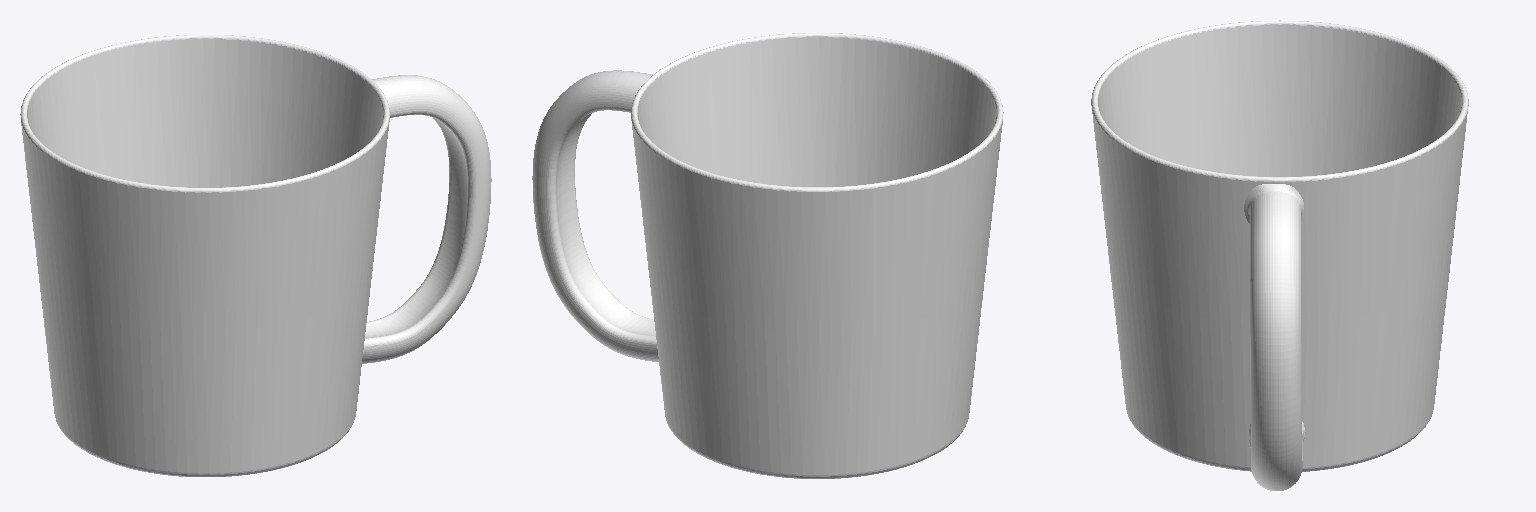
URDF robot description (simple_mug):
<robot name="simple_mug">
  <link name="mug_body">
    <visual>
      <geometry>
        <mesh filename="package://genesis_analogies/meshes/mug.stl" scale="0.0008 0.0008 0.0008"/>
      </geometry>
      <material name="white">
        <color rgba="1 1 1 1"/>
      </material>
    </visual>
    <collision>
      <geometry>
        <mesh filename="package://genesis_analogies/meshes/mug.stl" scale="0.0008 0.0008 0.0008"/>
      </geometry>
    </collision>
    <inertial>
      <mass value="0.3"/>
      <origin xyz="0 0 0" rpy="0 0 0"/>
      <inertia
        ixx="0.001" ixy="0.0" ixz="0.0"
        iyy="0.001" iyz="0.0"
        izz="0.001"/>
    </inertial>
  </link>
</robot>

--- Facts derived from the render (not from the file) ---
The picture shows the robot from 3 angles, left to right: view 1: azimuth 30°, elevation 25°; view 2: azimuth 150°, elevation 25°; view 3: azimuth 270°, elevation 25°; orthographic projection.
Robot: simple_mug — 1 links, 0 joints (none); root link mug_body; default pose: all joints at 0.
Links seen in each view (by area): view 1: mug_body; view 2: mug_body; view 3: mug_body.
Link boxes in pixels (bbox=[...]): mug_body: bbox=[20, 35, 491, 476]; mug_body: bbox=[532, 33, 1003, 478]; mug_body: bbox=[1091, 20, 1468, 490].
Size in the robot's own frame: 0.1212 by 0.088 by 0.0801 metres.
1 mesh visuals loaded from 1 distinct referenced files (1 binary STL).
